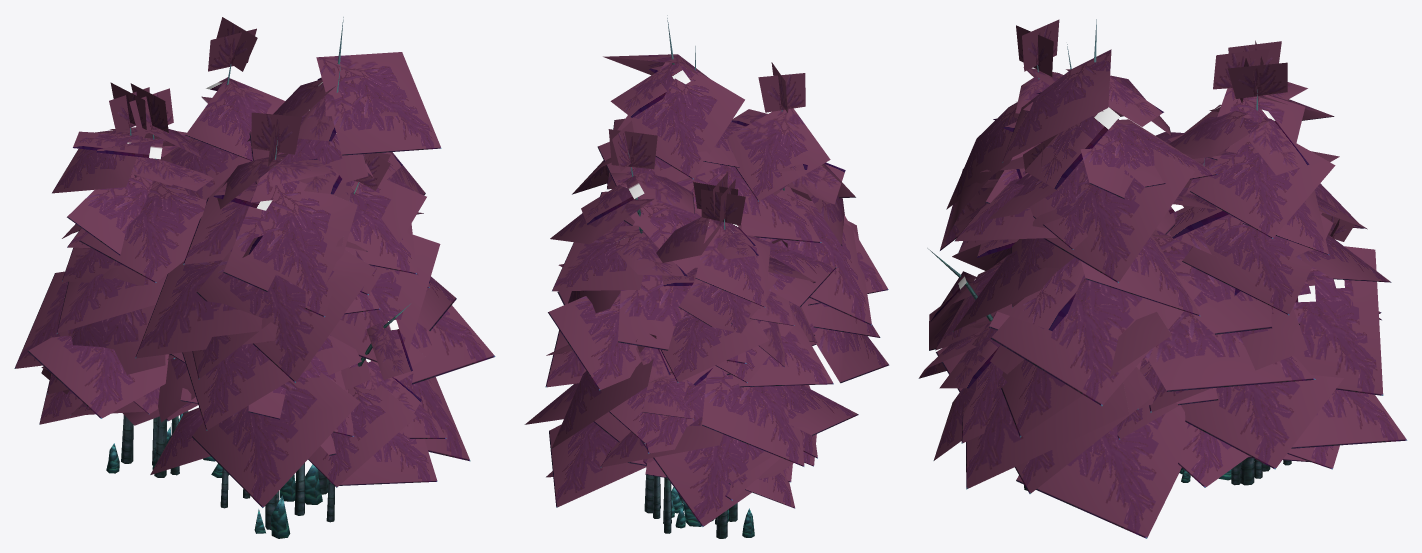
The model's file is ZZL_Item_05.FBX.
3 renders of one model, left to right at view 1: azimuth 30°, elevation 25°; view 2: azimuth 150°, elevation 25°; view 3: azimuth 270°, elevation 25°, orthographic. The views are drawn at different scales.
Visible parts, largest first — view 1: ZZL_Item_05; view 2: ZZL_Item_05; view 3: ZZL_Item_05.
Boxes of the visible parts, <box> form: ZZL_Item_05: <box>14,17,495,538</box>; ZZL_Item_05: <box>524,15,889,538</box>; ZZL_Item_05: <box>918,19,1407,538</box>.
Bounding box in the file's own units: 661 × 842 × 748.
Materials: 1 (1 with a texture image).
